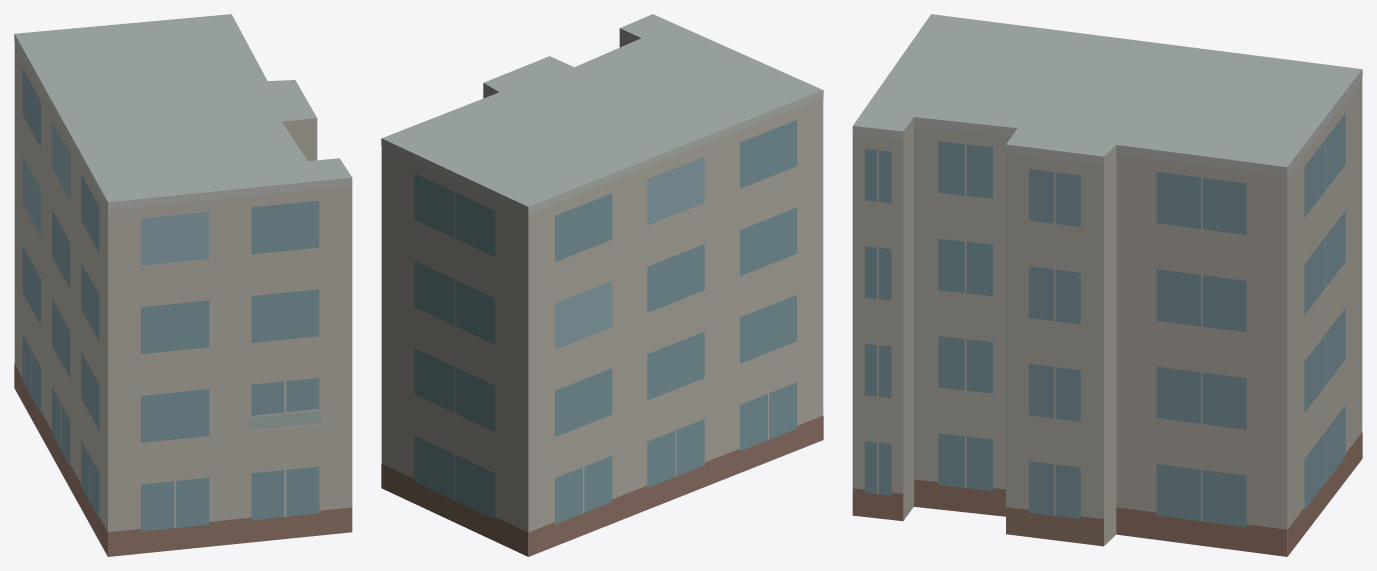
Rendered from survey-upis-33023788.glb.
3 views of the same model, side by side, from view 1: azimuth 30°, elevation 25°; view 2: azimuth 150°, elevation 25°; view 3: azimuth 270°, elevation 25° (orthographic). The views are drawn at different scales.
Visible parts, largest first — view 1: survey-upis-33023788.tmp; view 2: survey-upis-33023788.tmp; view 3: survey-upis-33023788.tmp.
Boxes of the visible parts, x1=… form: survey-upis-33023788.tmp: x1=14, y1=14, x2=352, y2=556; survey-upis-33023788.tmp: x1=381, y1=14, x2=823, y2=556; survey-upis-33023788.tmp: x1=852, y1=14, x2=1362, y2=556.
Bounding box in the file's own units: 9.33 × 11.05 × 13.11.
